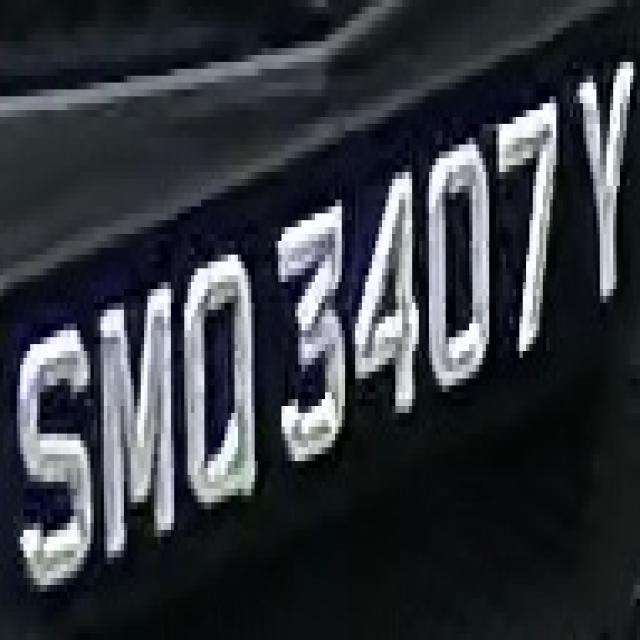0: (422, 138, 503, 399)
3: (272, 186, 358, 482)
4: (342, 165, 426, 447)
7: (482, 90, 570, 378)
M: (101, 255, 174, 564)
Q: (168, 255, 272, 523)
S: (4, 303, 100, 626)
Y: (566, 55, 640, 317)
